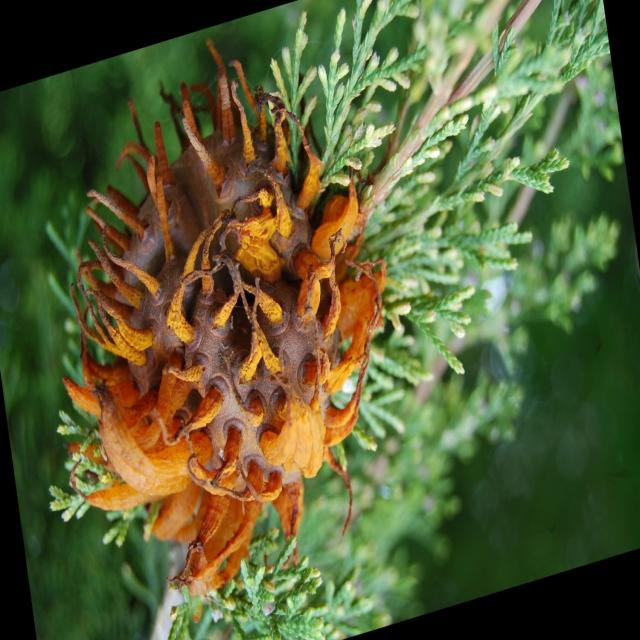Gymnosporangium_Rusts: (59, 38, 388, 599)
